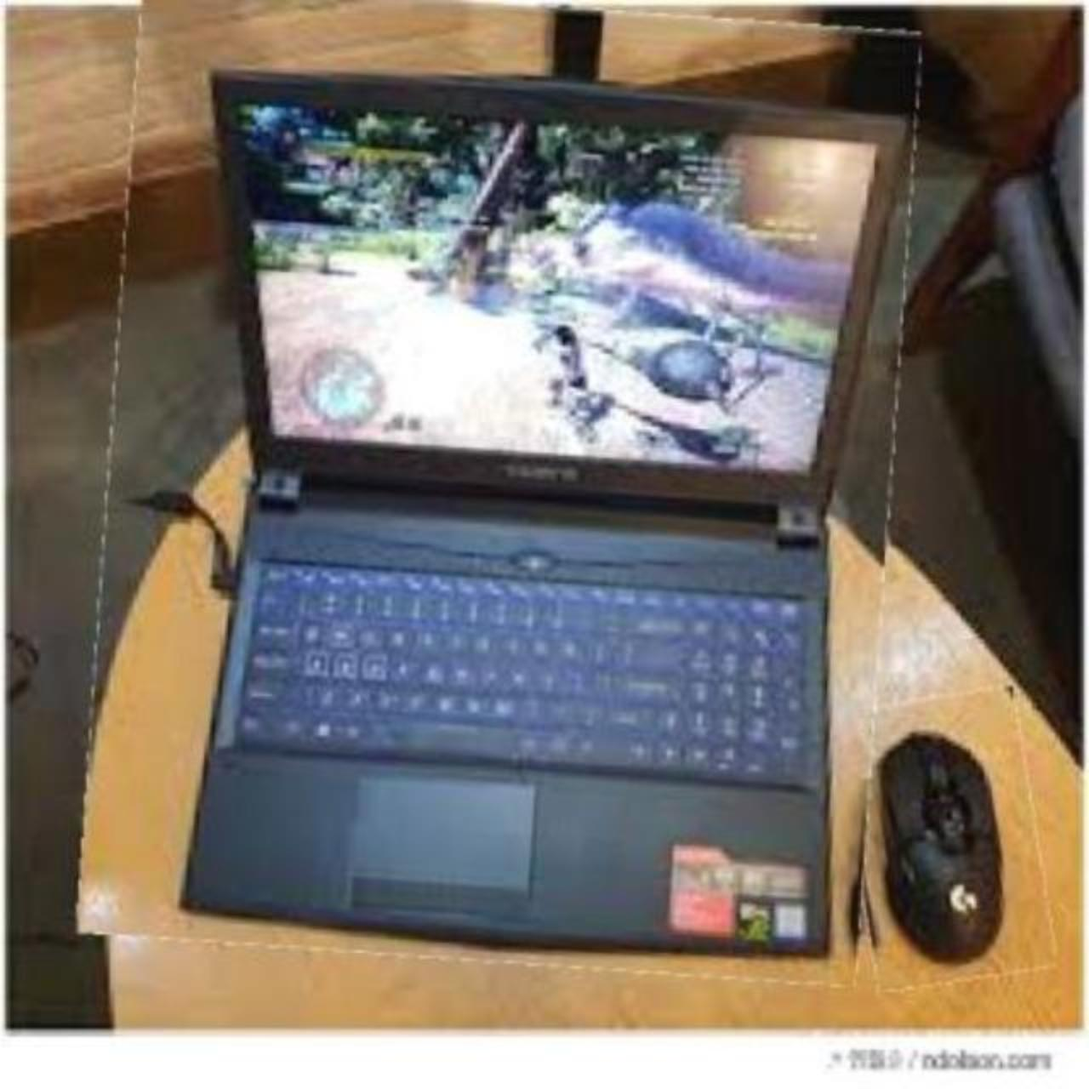laptop: (92, 0, 905, 973)
